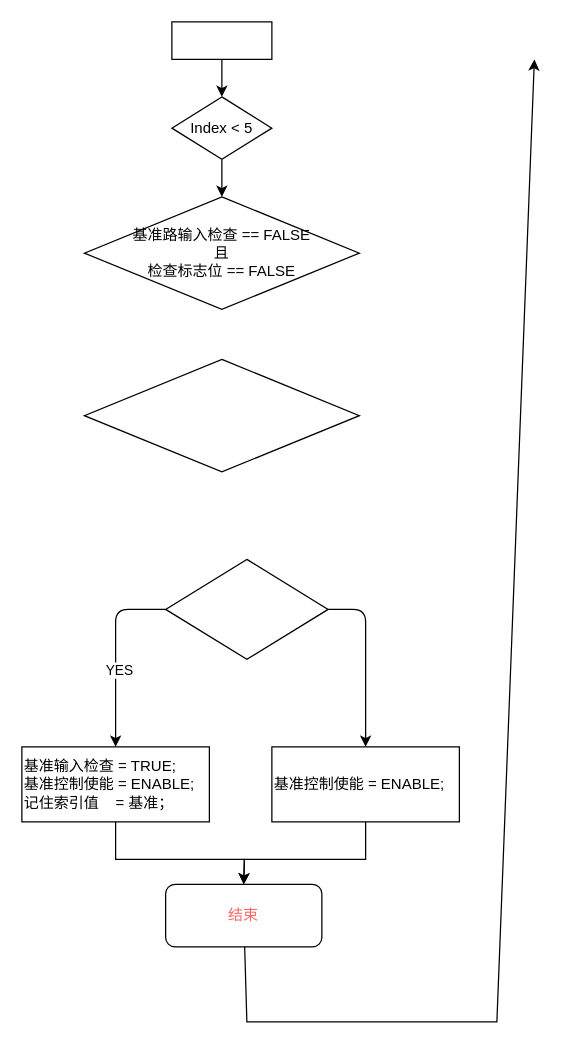
This 566x1054 diagram has some shape labels left out. The box of each missing label's shape, as (x1, y1, x2, y2) in pixels:
Index = 0: (171, 21, 272, 59)
剩余PV输入检查 == FALSE 且 剩余PV检查标志位 == FALSE: (83, 358, 359, 472)
基准路 相同计数 == 0: (164, 558, 328, 659)
